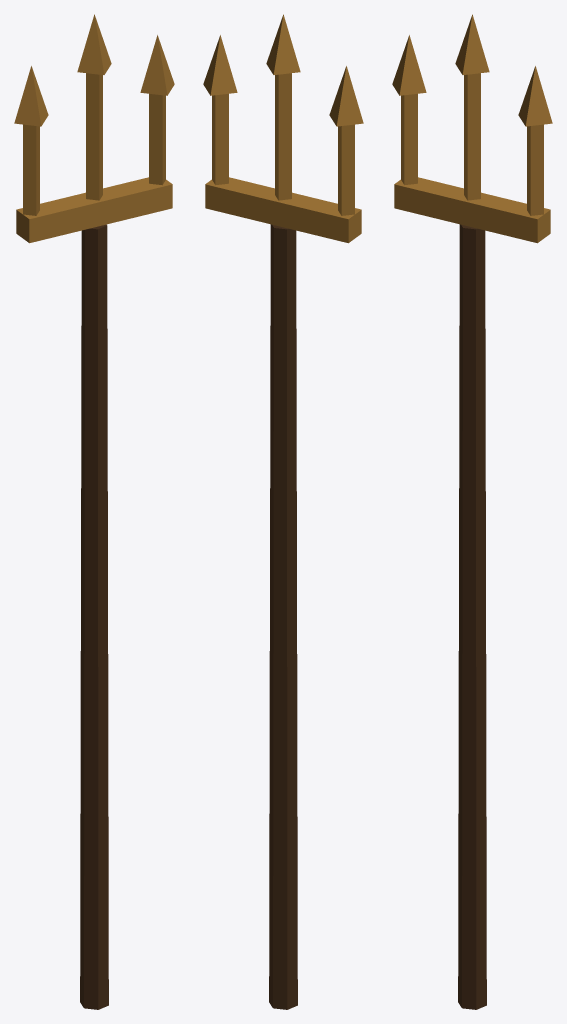
Rendered from weapon_trident.glb.
3 views of the same model, side by side, from view 1: azimuth 30°, elevation 25°; view 2: azimuth 150°, elevation 25°; view 3: azimuth 330°, elevation 25° (orthographic).
Parts seen in each view (by area): view 1: weapon_trident; view 2: weapon_trident; view 3: weapon_trident.
Part boxes in pixels (x1=…): weapon_trident: x1=14, y1=14, x2=174, y2=1009; weapon_trident: x1=203, y1=14, x2=363, y2=1009; weapon_trident: x1=392, y1=14, x2=552, y2=1009.
Bounding box in the file's own units: 0.336 × 1.98 × 0.072.
